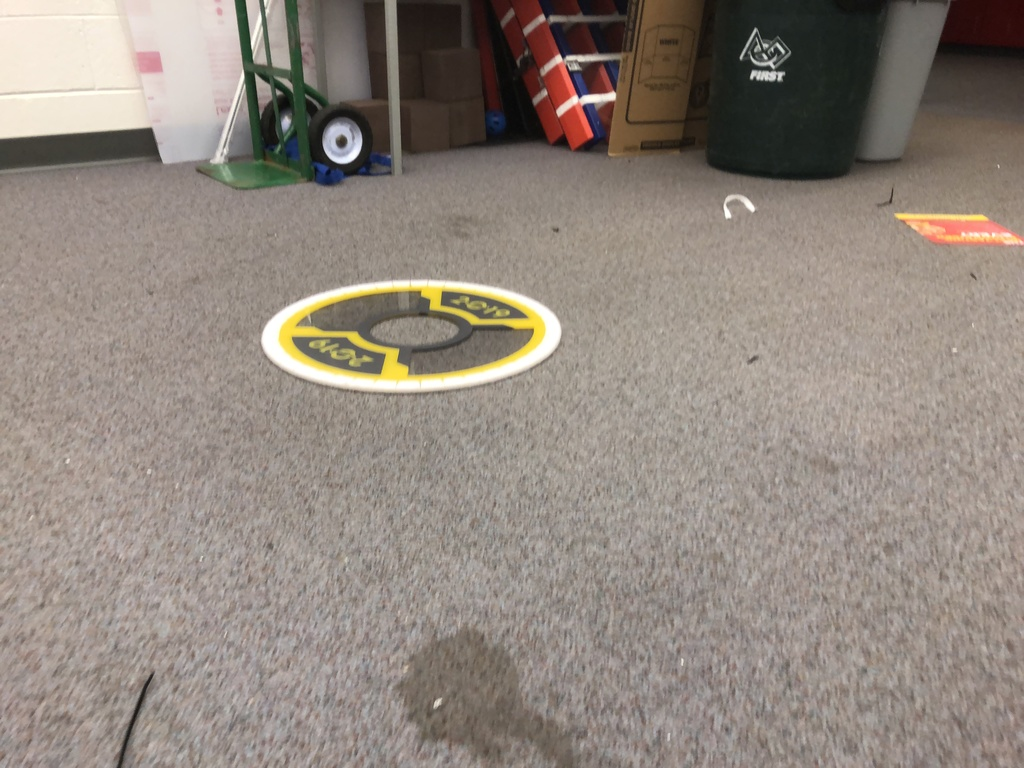hatch_panel: (260, 273, 560, 399)
